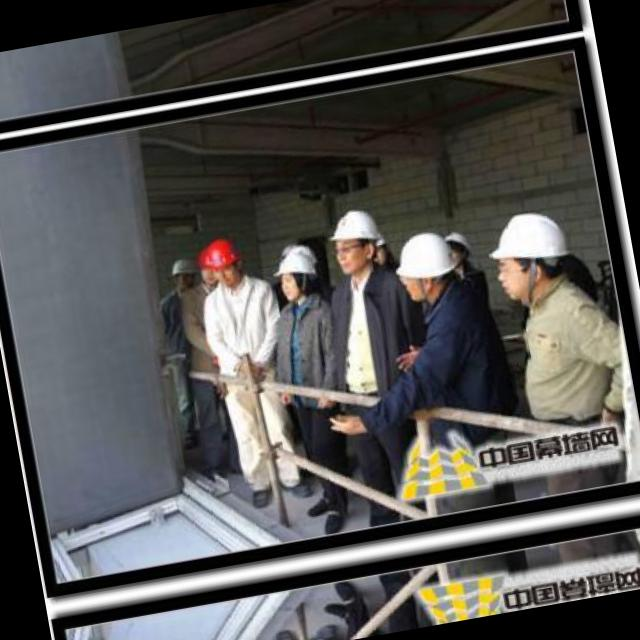helmet: (476, 198, 574, 310), (391, 225, 458, 306), (318, 202, 386, 280), (268, 243, 321, 305), (198, 234, 245, 292), (438, 224, 473, 271), (167, 252, 201, 295)
